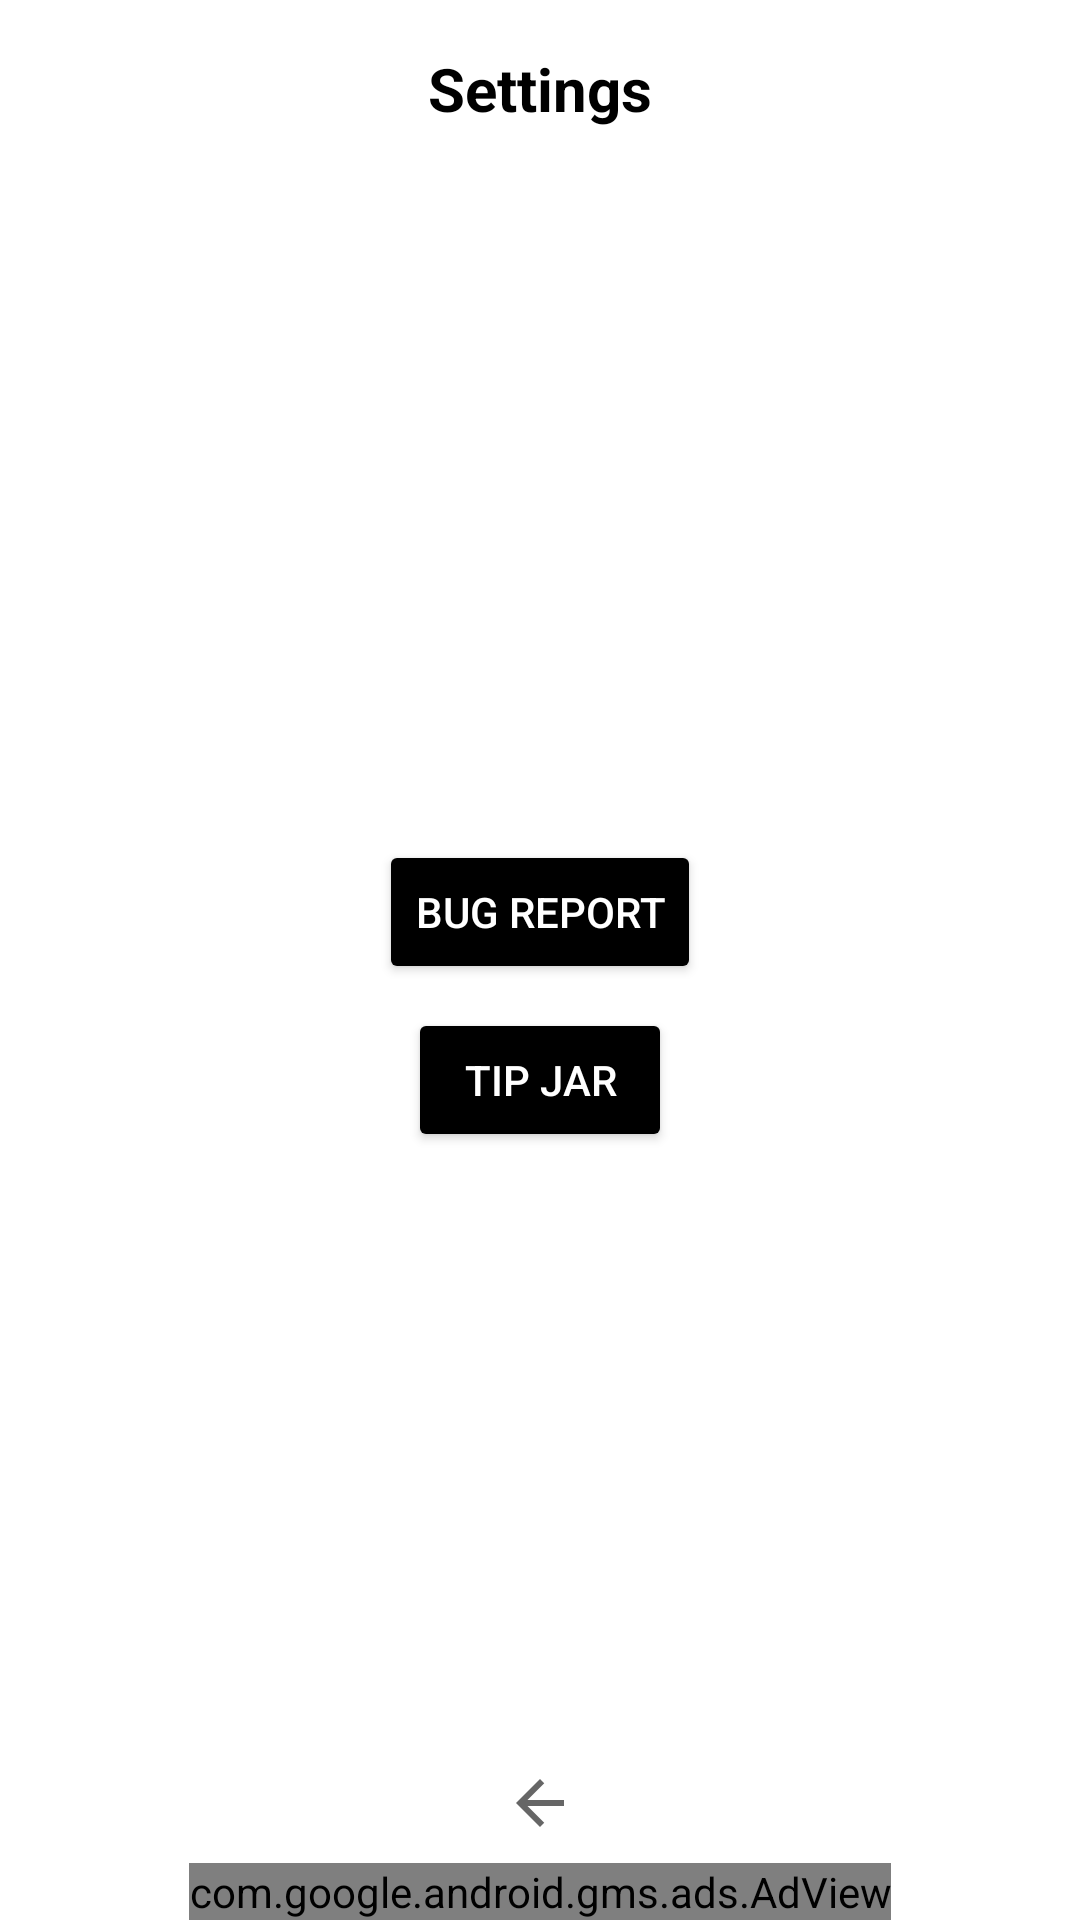

Icons on this 1080*1920 Android screen, each with its box as (x1, y1, x2, y2):
backarrow: (516, 1779, 564, 1827)
